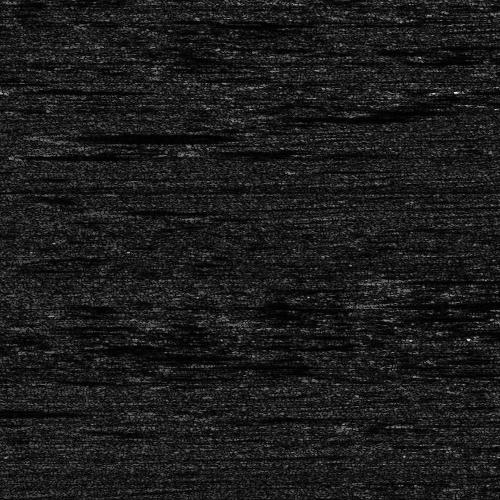rock: (154, 145, 237, 154), (181, 412, 264, 421), (369, 273, 422, 284), (29, 129, 70, 140), (348, 301, 389, 306), (0, 87, 27, 94), (456, 497, 500, 500), (483, 102, 500, 109)
shadow: (50, 129, 223, 140), (223, 412, 409, 421), (396, 273, 500, 284), (196, 145, 288, 154), (1, 87, 118, 94), (369, 301, 500, 306), (0, 407, 61, 416)
